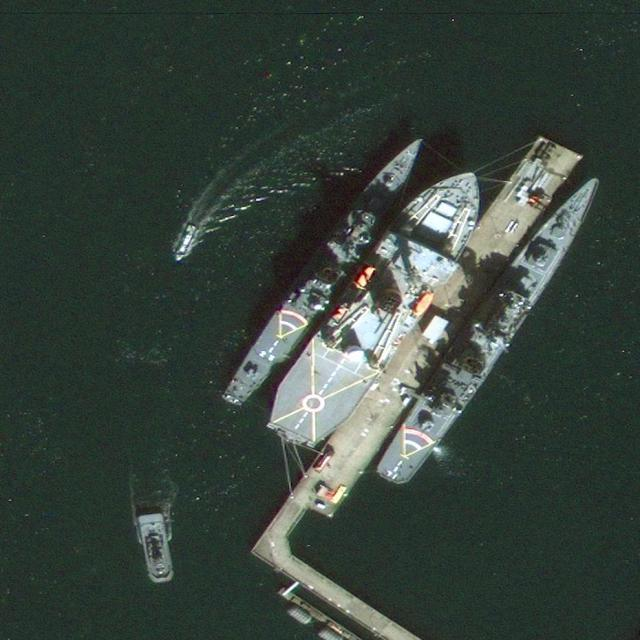Destroyer: (370, 160, 612, 497), (215, 129, 437, 418)
Dock: (267, 131, 579, 552)
Landing: (255, 150, 504, 462)
Other Warship: (138, 512, 173, 584), (173, 224, 198, 264)
